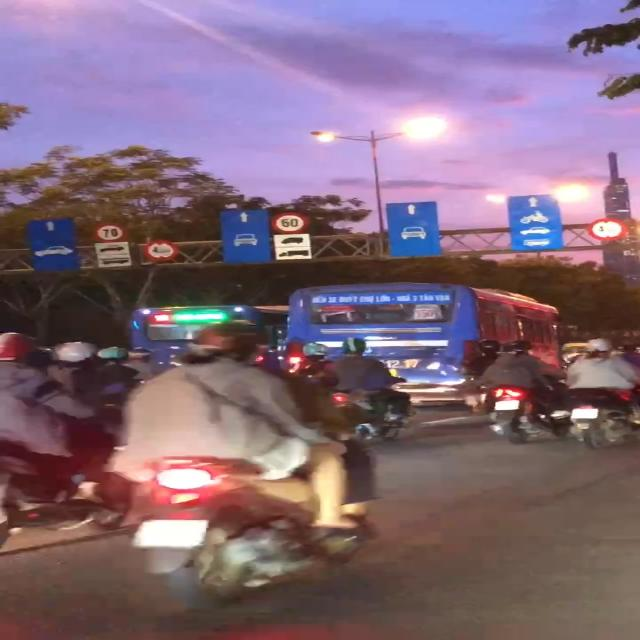Bien bao toc do toi da cho phep: (268, 212, 312, 234), (91, 222, 128, 243)
